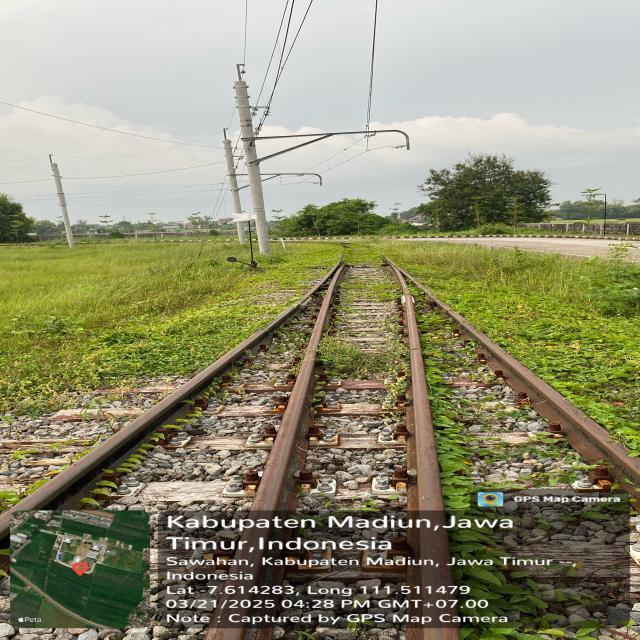rail-detection: (0, 264, 347, 640), (386, 260, 640, 640)
